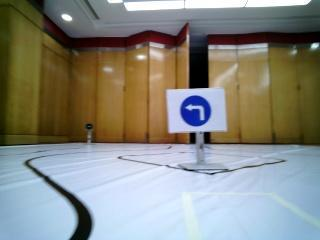left: (166, 93, 224, 133)
